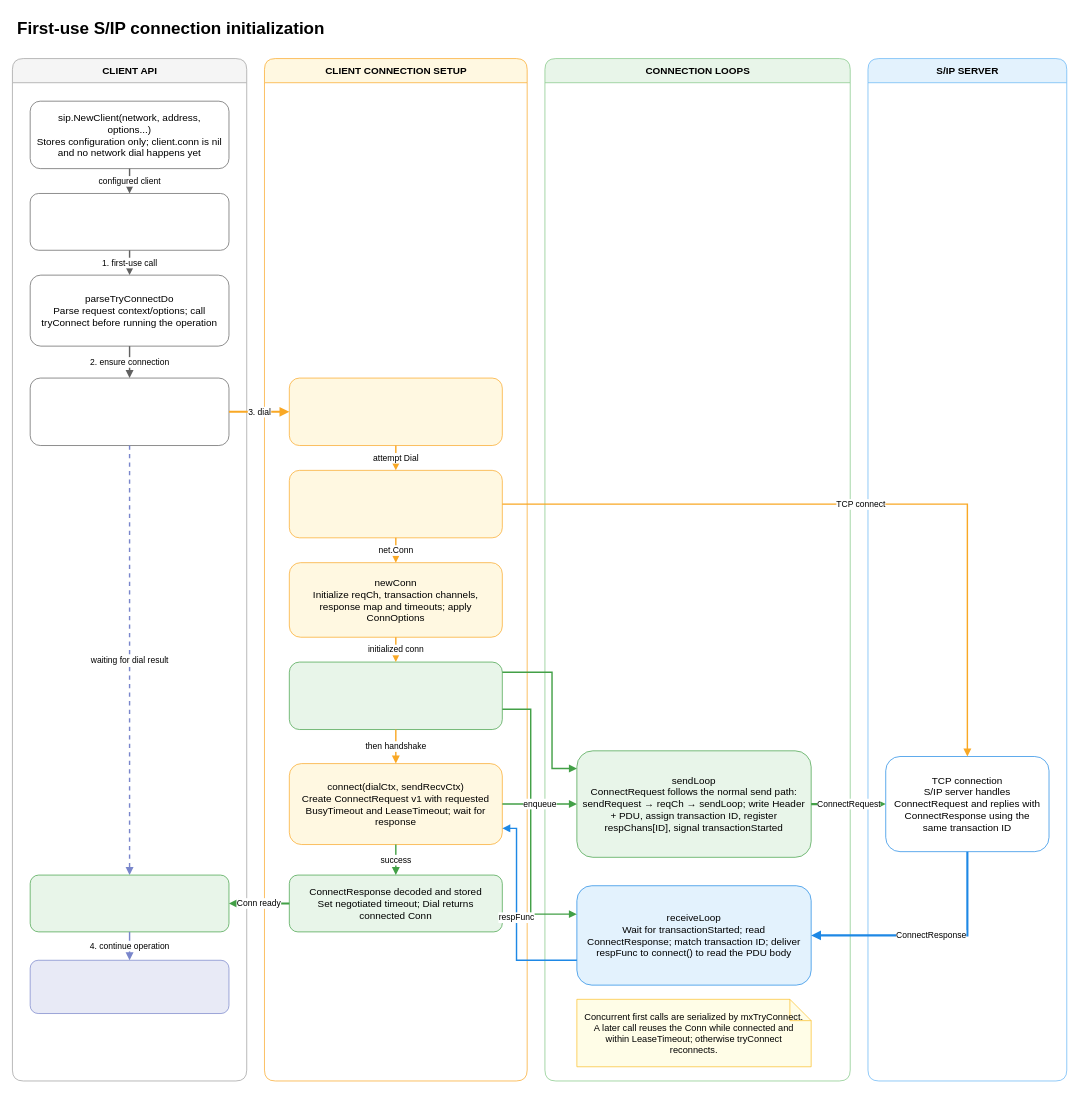
Image size: 1079x1093. Some labels were removed from this diagram. Each missing label, with the centre of its shape:
"Dial → dial Resolve ConnOptions; open TCP connection with net.Dialer.DialContext" belongs at (x=395, y=504).
"dialWithBackOff Retry Dial failures with configured backoff" belongs at (x=395, y=411).
"First client operation e.g. Client.ReadDataState(...)" belongs at (x=129, y=221).
"Resume original do() Conn.ReadDataState(...) begins the requested operation" belongs at (x=129, y=987).
"startLoops Launch sendLoop and receiveLoop before the Connect handshake" belongs at (x=395, y=695).
"tryConnect Lock mxTryConnect; client.Conn() is nil on first use" belongs at (x=129, y=411).
"waitForDialWithBackoff stores the returned Conn in client.conn" belongs at (x=129, y=903).
